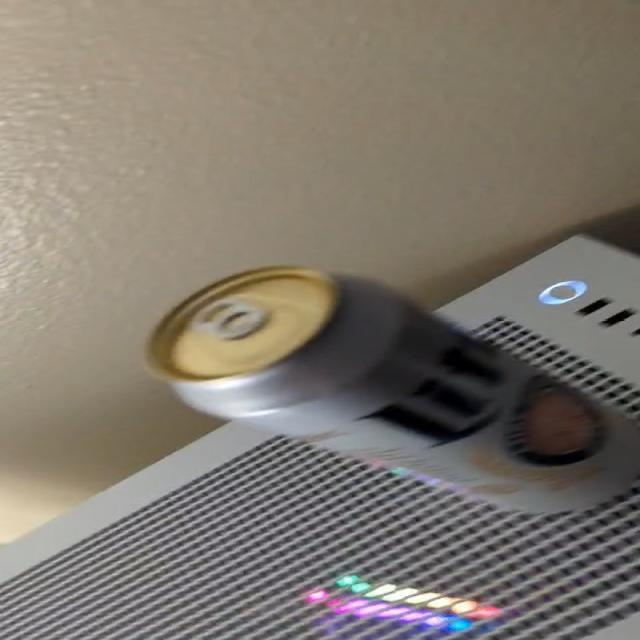can: (152, 268, 638, 512)
